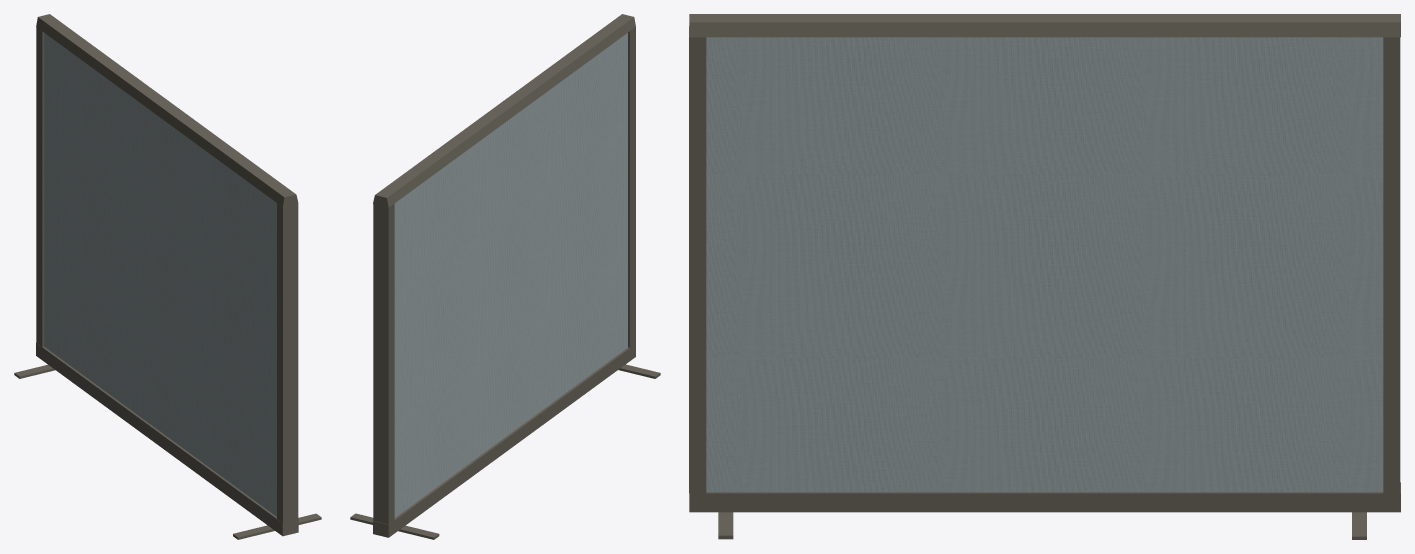
The model's file is OfficeDivider_01.DAE.
3 renders of one model, left to right at view 1: azimuth 30°, elevation 25°; view 2: azimuth 150°, elevation 25°; view 3: azimuth 270°, elevation 25°, orthographic. The views are drawn at different scales.
Visible parts, largest first — view 1: OfficeDividerOne300; view 2: OfficeDividerOne300; view 3: OfficeDividerOne300.
Boxes of the visible parts, <box> form: OfficeDividerOne300: <box>14,14,321,539</box>; OfficeDividerOne300: <box>350,14,660,539</box>; OfficeDividerOne300: <box>689,14,1400,539</box>.
Size of what is drawn, in the model's own units: 57.33 by 290 by 221.
